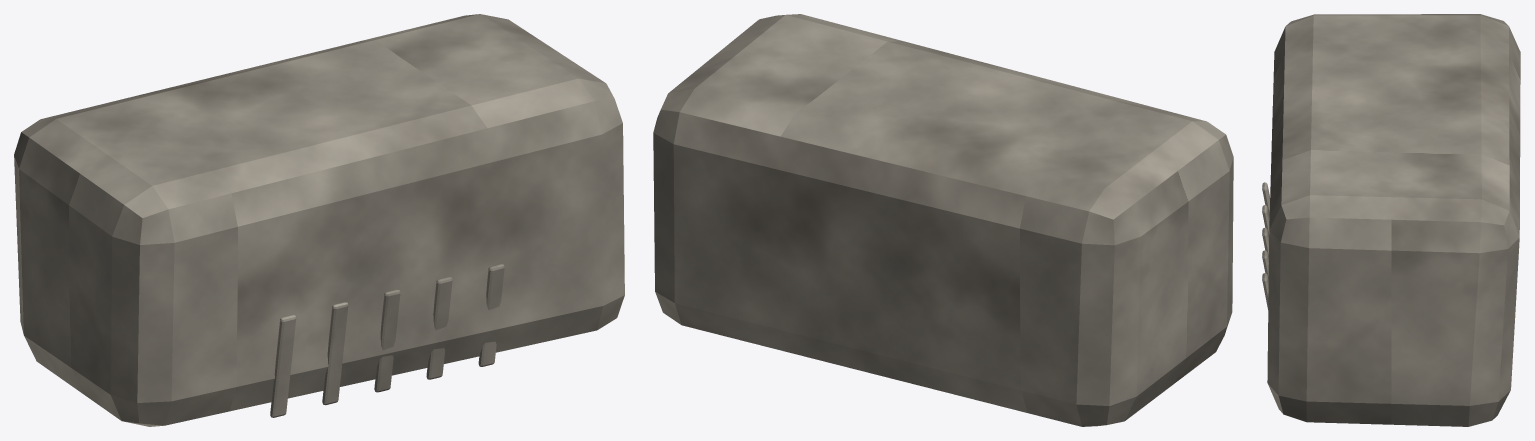
The model's file is D05_dust_sheet_furniture_v1.glb.
3 renders of one model, left to right at view 1: azimuth 30°, elevation 25°; view 2: azimuth 150°, elevation 25°; view 3: azimuth 270°, elevation 25°, orthographic. The views are drawn at different scales.
Parts seen in each view (by area): view 1: D05_dust_sheet_furniture_v1; view 2: D05_dust_sheet_furniture_v1; view 3: D05_dust_sheet_furniture_v1.
Part boxes in pixels (x1,y1,x2,y2): D05_dust_sheet_furniture_v1: [14, 14, 624, 426]; D05_dust_sheet_furniture_v1: [653, 14, 1233, 426]; D05_dust_sheet_furniture_v1: [1262, 14, 1520, 426].
Bounding box in the file's own units: 1.5 × 0.7294 × 0.7449.
Materials: 1 (1 with a texture image).
